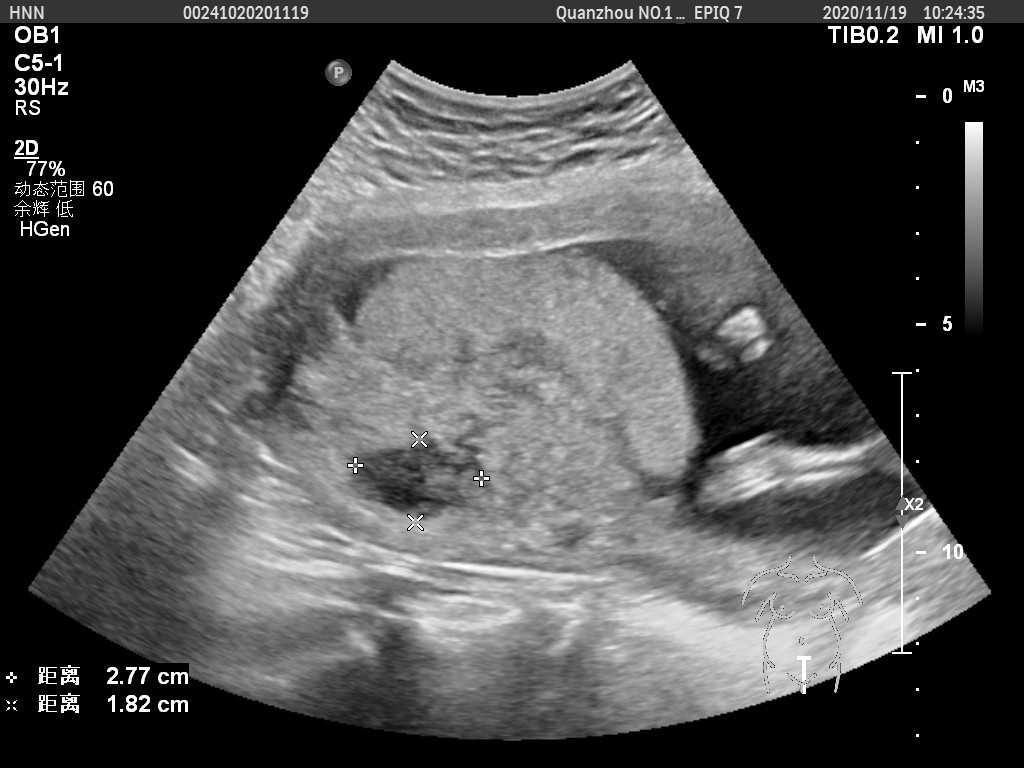肌瘤: (355, 439, 481, 521)
